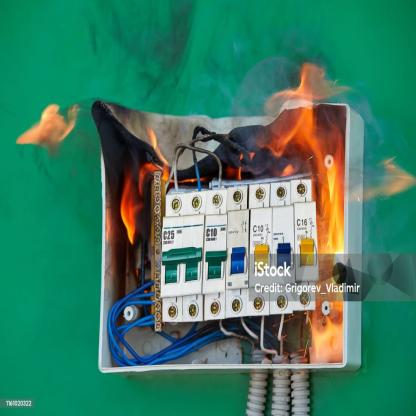fire: (259, 62, 416, 372), (122, 113, 185, 247)
smoke: (74, 3, 314, 138), (359, 199, 416, 316)
